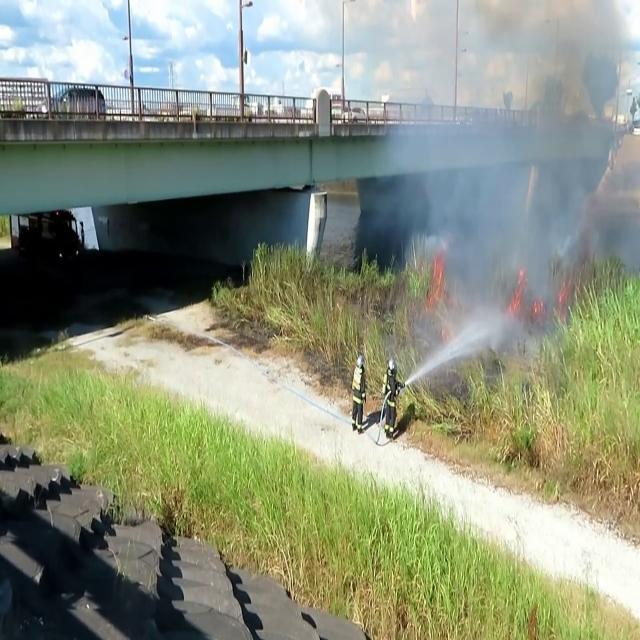Smoke: (386, 2, 638, 329)
